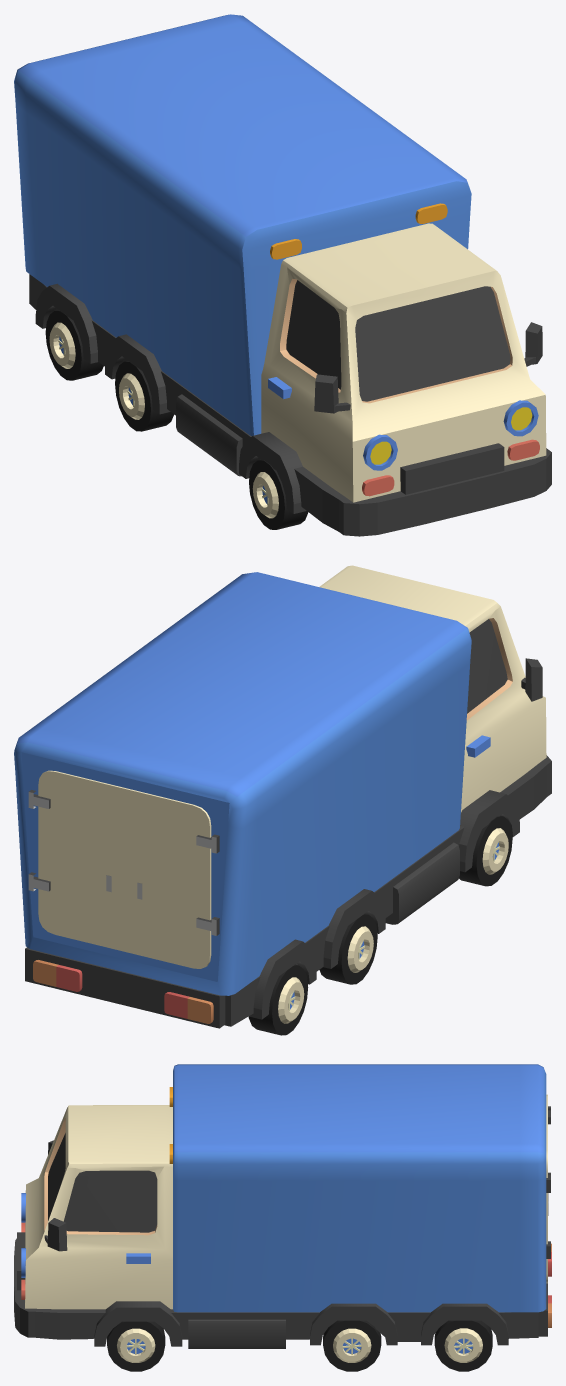
File: Blue_Big_Truck.fbx
3 views of the same model, one above another, from view 1: azimuth 30°, elevation 25°; view 2: azimuth 150°, elevation 25°; view 3: azimuth 270°, elevation 25° (orthographic). The views are drawn at different scales.
Visible parts, largest first — view 1: Blue_Big_Truck, Blue_Big_Truck_Wheel2, Blue_Big_Truck_Wheel3, Blue_Big_Truck_Wheel; view 2: Blue_Big_Truck, Back_Right_Door003, Back_Left_Door003, Blue_Big_Truck_Wheel2, Blue_Big_Truck_Wheel3, Blue_Big_Truck_Wheel; view 3: Blue_Big_Truck, Blue_Big_Truck_Wheel3, Blue_Big_Truck_Wheel2, Blue_Big_Truck_Wheel, Back_Left_Door003.
Boxes of the visible parts, x1,y1,x2,y2 form: Blue_Big_Truck: [14, 14, 551, 536]; Blue_Big_Truck_Wheel2: [115, 360, 173, 431]; Blue_Big_Truck_Wheel3: [45, 310, 103, 380]; Blue_Big_Truck_Wheel: [249, 459, 308, 529]; Blue_Big_Truck: [14, 565, 551, 1028]; Back_Right_Door003: [124, 788, 219, 968]; Back_Left_Door003: [28, 770, 124, 951]; Blue_Big_Truck_Wheel2: [319, 913, 377, 984]; Blue_Big_Truck_Wheel3: [248, 964, 308, 1035]; Blue_Big_Truck_Wheel: [459, 815, 512, 886]; Blue_Big_Truck: [14, 1064, 551, 1348]; Blue_Big_Truck_Wheel3: [434, 1320, 492, 1371]; Blue_Big_Truck_Wheel2: [323, 1320, 381, 1371]; Blue_Big_Truck_Wheel: [107, 1321, 165, 1371]; Back_Left_Door003: [546, 1123, 550, 1283].
Bounding box in the file's own units: 269 × 305 × 665.
